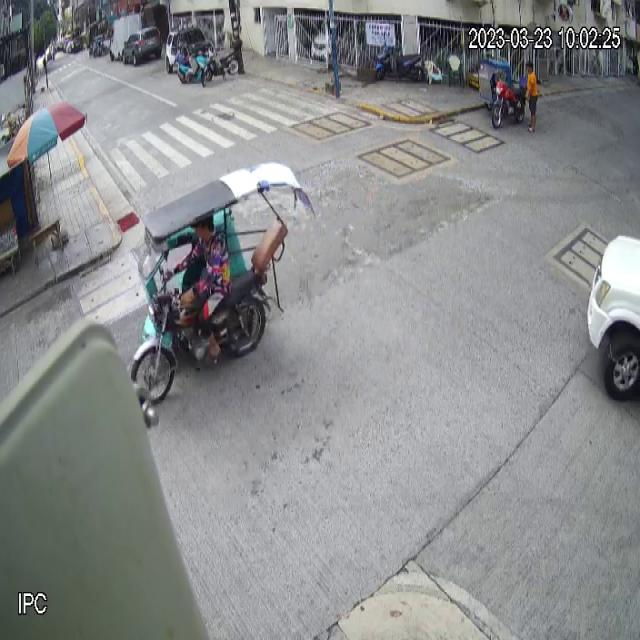Motorcycle: (201, 42, 240, 88)
Tricycle: (130, 176, 289, 404), (478, 58, 527, 129)
